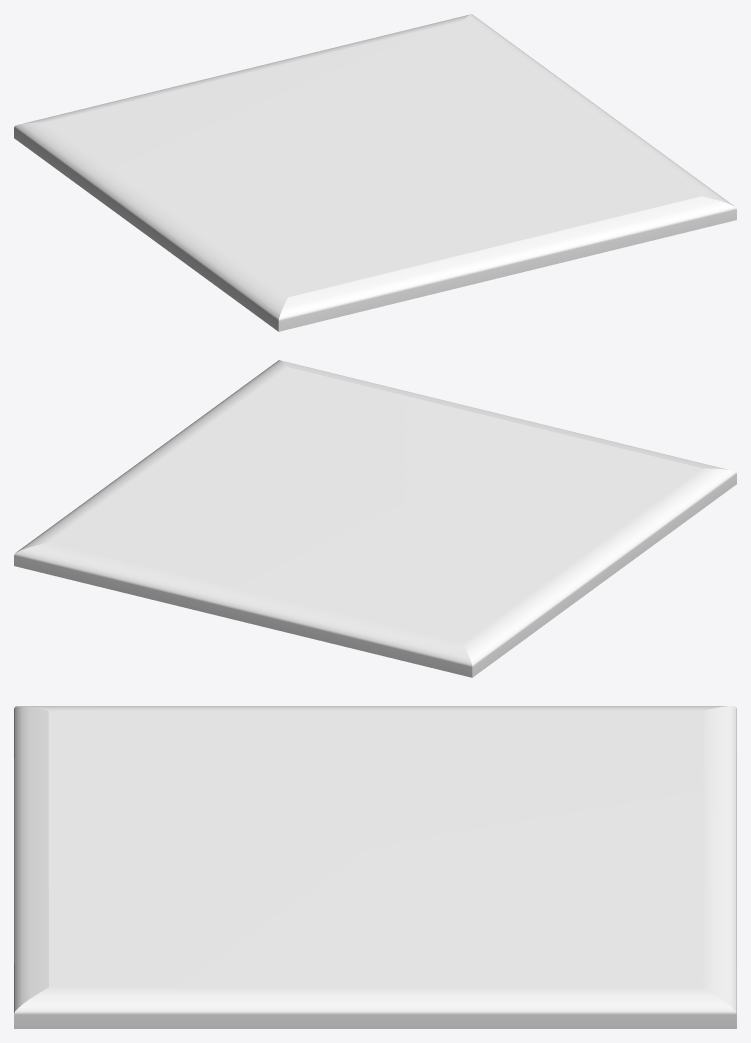
Rendered from tile.fbx.
3 renders of one model, top to bottom at view 1: azimuth 30°, elevation 25°; view 2: azimuth 150°, elevation 25°; view 3: azimuth 270°, elevation 25°, orthographic. The views are drawn at different scales.
Parts seen in each view (by area): view 1: Tile:pCube2; view 2: Tile:pCube2; view 3: Tile:pCube2.
Part boxes in pixels (bbox=[...]): Tile:pCube2: bbox=[14, 14, 736, 331]; Tile:pCube2: bbox=[14, 360, 736, 677]; Tile:pCube2: bbox=[14, 706, 736, 1028].
Size of the model in its own units: 12 by 0.4978 by 12.
1 material, 1 textured.
